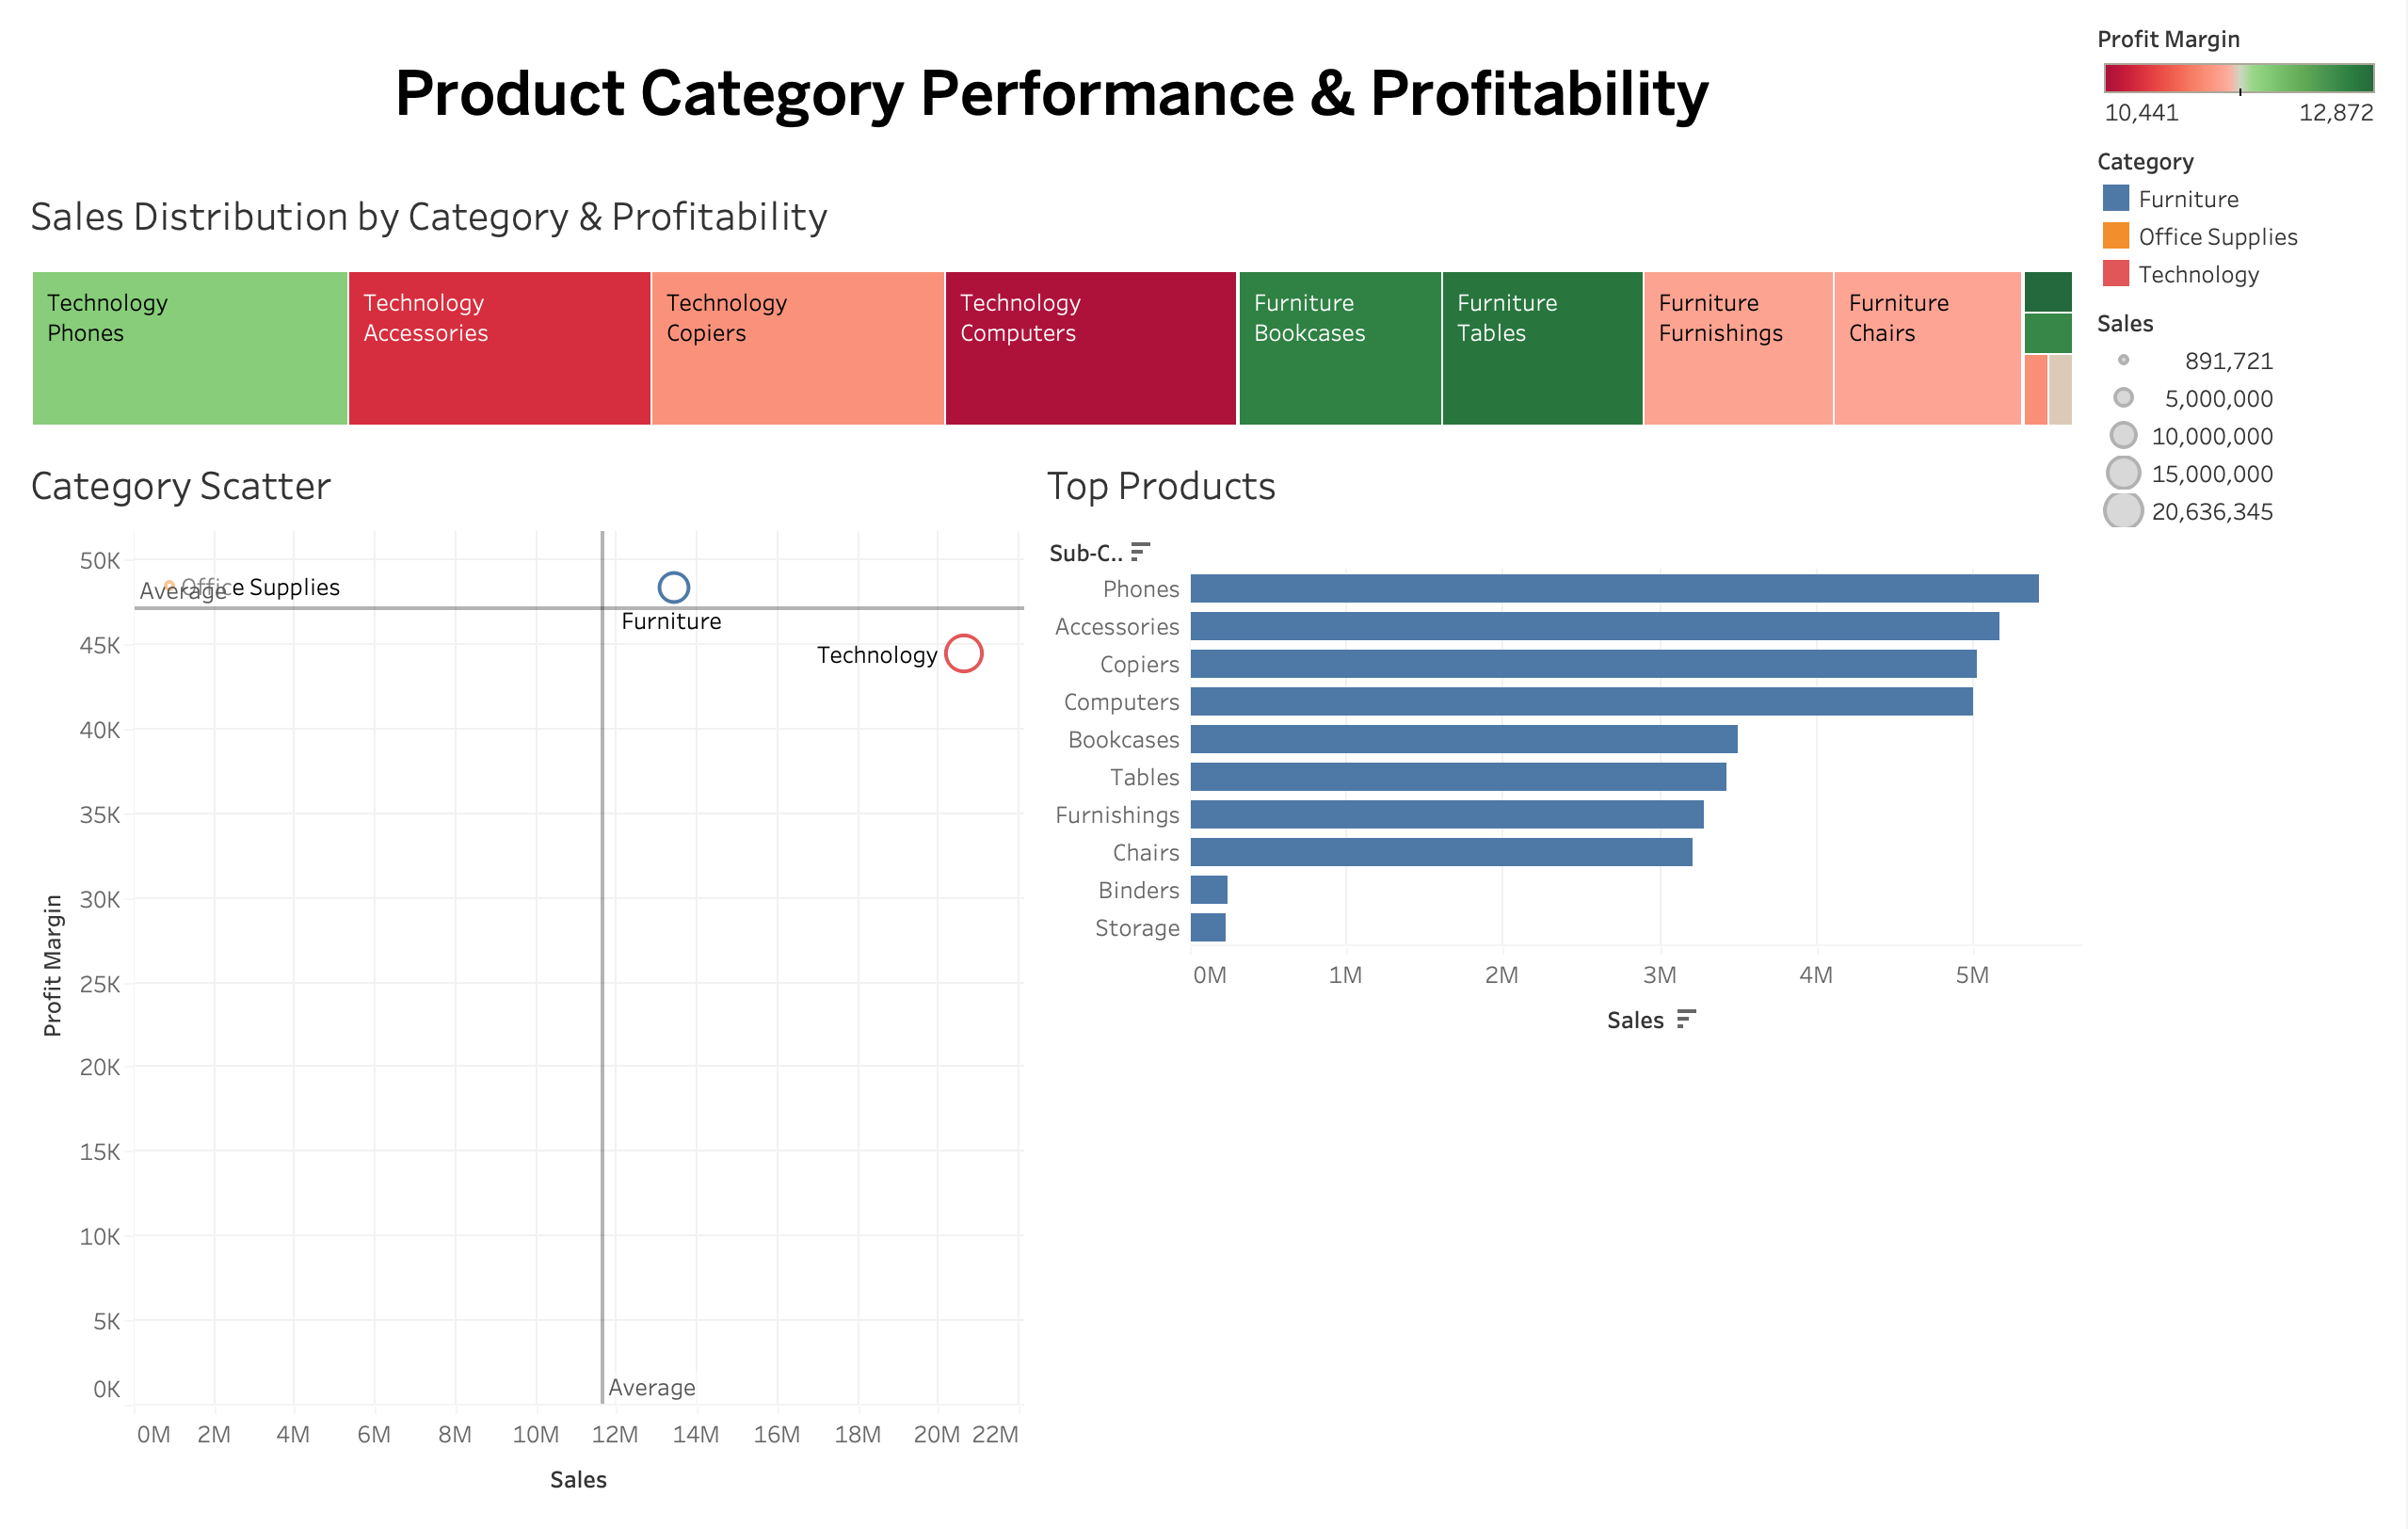

This screenshot's page, from the dashboard's own definition file:
{"tool":"tableau","page":{"name":"3_Product_Analysis","canvas":[1000,1000],"units":"permille","ordinal":2},"visuals":[{"type":"text","box":[6.2,11.3,862.6,103.5]},{"type":"legend","title":"Sales Distribution by Category & Profitability","param":"[federated.0rimsko0mqds3k1eb8vza0f691zb].[sum:Profit Margin:qk]","box":[868.9,11.3,124.9,91.5]},{"type":"legend","title":"Category Scatter","param":"[federated.0rimsko0mqds3k1eb8vza0f691zb].[none:Category:nk]","box":[868.9,102.8,124.9,121.1]},{"type":"worksheet","title":"Sales Distribution by Category & Profitability","mark":"Automatic","box":[6.2,114.8,862.6,205.6]},{"type":"legend","title":"Category Scatter","param":"[federated.0rimsko0mqds3k1eb8vza0f691zb].[sum:Sales:qk]","box":[868.9,224,124.9,177.5]},{"type":"worksheet","title":"Category Scatter","mark":"Automatic","rows":["Profit Margin"],"cols":["Sales"],"box":[6.2,320.4,423.1,668.3]},{"type":"worksheet","title":"Top Products","mark":"Automatic","rows":["Sub-Category"],"cols":["Sales"],"box":[429.4,320.4,439.5,668.3]}]}

Visuals, with their boxes on the dashboard's canvas, which has no fixed pixel size, in thousandths of its width and height (x1, y1, x2, y2). These are canvas units, not pixel positions in the 2408x1529 screenshot, which may show the page scaled, cropped or inside an application window:
text: {"x1": 6, "y1": 11, "x2": 869, "y2": 115}
"Sales Distribution by Category & Profitability" legend: {"x1": 869, "y1": 11, "x2": 994, "y2": 103}
"Category Scatter" legend: {"x1": 869, "y1": 103, "x2": 994, "y2": 224}
"Sales Distribution by Category & Profitability" worksheet: {"x1": 6, "y1": 115, "x2": 869, "y2": 320}
"Category Scatter" legend: {"x1": 869, "y1": 224, "x2": 994, "y2": 402}
"Category Scatter" worksheet: {"x1": 6, "y1": 320, "x2": 429, "y2": 989}
"Top Products" worksheet: {"x1": 429, "y1": 320, "x2": 869, "y2": 989}
